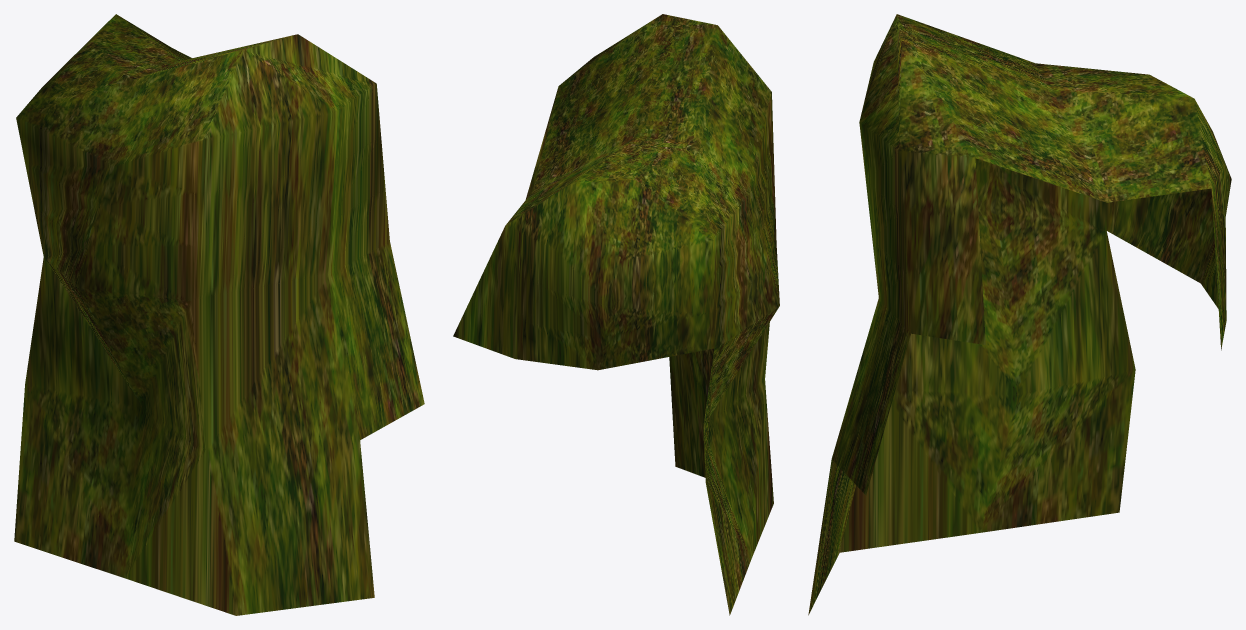
The model's file is TROLLHOLE02_RM_PSURF103.fbx.
3 views of the same model, side by side, from view 1: azimuth 30°, elevation 25°; view 2: azimuth 150°, elevation 25°; view 3: azimuth 270°, elevation 25° (orthographic). The views are drawn at different scales.
Parts seen in each view (by area): view 1: TROLLHOLE02_RM_PSURF103; view 2: TROLLHOLE02_RM_PSURF103; view 3: TROLLHOLE02_RM_PSURF103.
Boxes of the visible parts, x1,y1,x2,y2 form: TROLLHOLE02_RM_PSURF103: [14, 14, 424, 615]; TROLLHOLE02_RM_PSURF103: [453, 14, 779, 615]; TROLLHOLE02_RM_PSURF103: [808, 14, 1231, 615].
Size of the model in its own units: 39792 by 69089 by 47379.
Materials: 1 (1 with a texture image).
